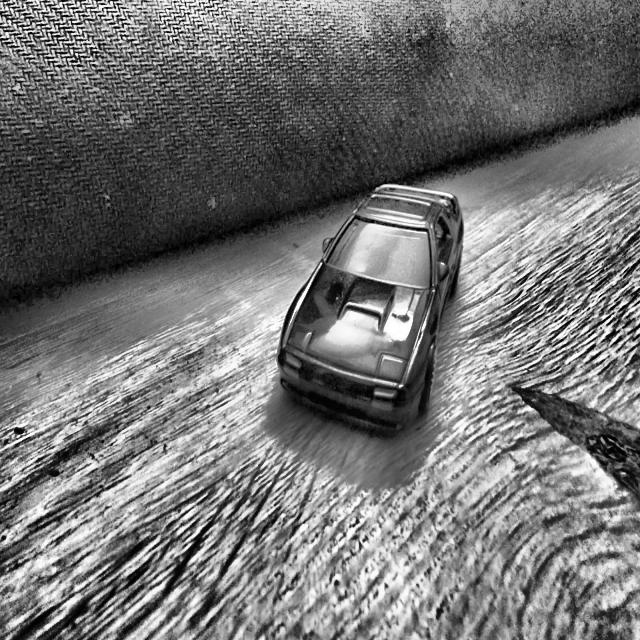car: (276, 182, 464, 434)
